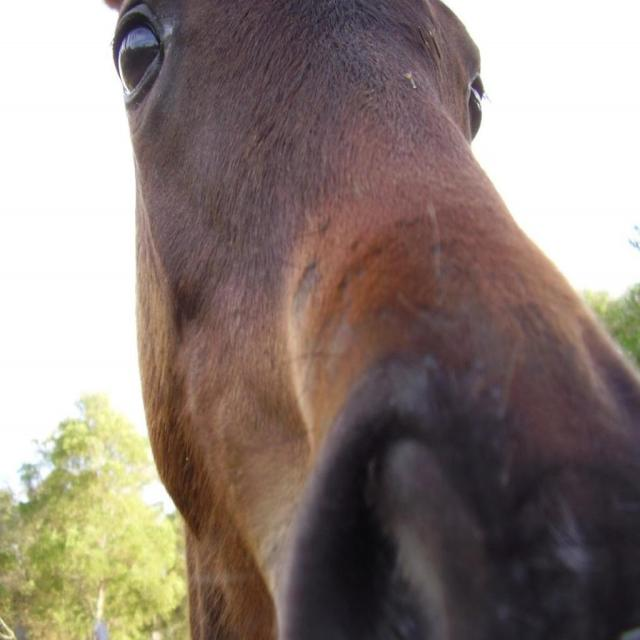Horse: (100, 0, 639, 639)
